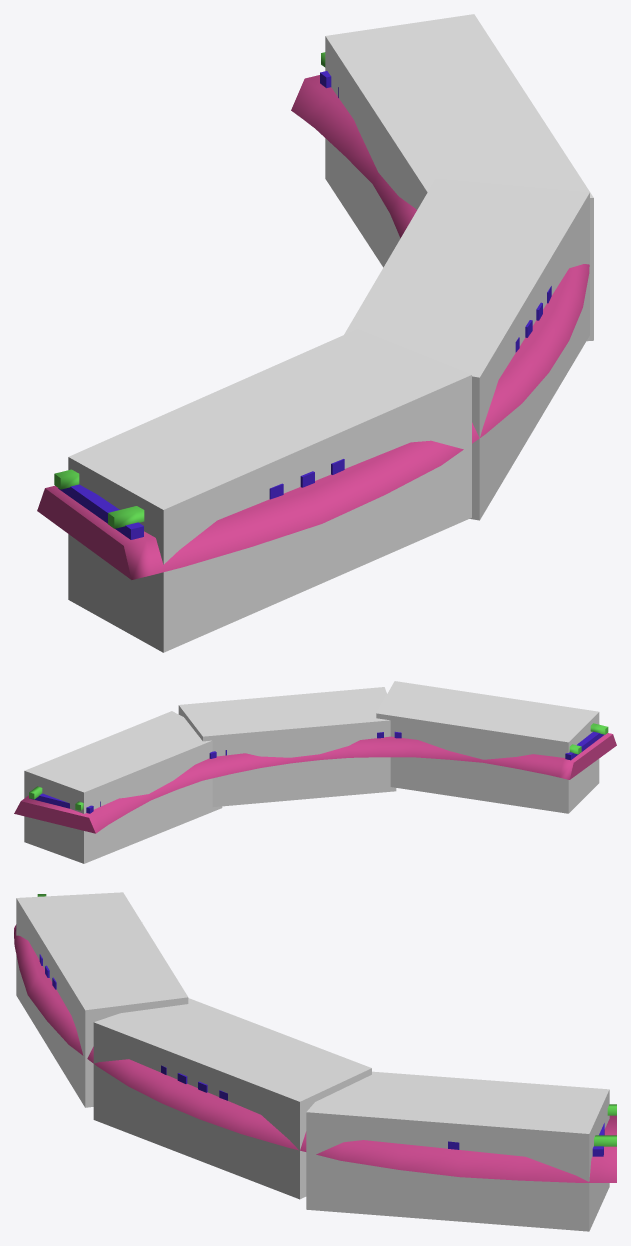
The model's file is small_left.fbx.
3 views of the same model, one above another, from view 1: azimuth 30°, elevation 25°; view 2: azimuth 150°, elevation 25°; view 3: azimuth 270°, elevation 25° (orthographic). The views are drawn at different scales.
Parts seen in each view (by area): view 1: boundingBox1, boundingBox2, boundingBox3, ties; view 2: boundingBox1, boundingBox2, boundingBox3, ties; view 3: boundingBox3, boundingBox2, boundingBox1, ties.
Boxes of the visible parts, x1,y1,x2,y2 form: boundingBox1: [68, 329, 471, 652]; boundingBox2: [344, 179, 589, 520]; boundingBox3: [325, 14, 593, 341]; ties: [37, 52, 589, 579]; boundingBox1: [376, 681, 599, 813]; boundingBox2: [178, 687, 396, 807]; boundingBox3: [24, 711, 222, 863]; ties: [14, 723, 616, 833]; boundingBox3: [306, 1071, 609, 1231]; boundingBox2: [93, 998, 371, 1199]; boundingBox1: [16, 892, 188, 1107]; ties: [14, 894, 616, 1182].
Size of the model in its own units: 560 by 108 by 560.
